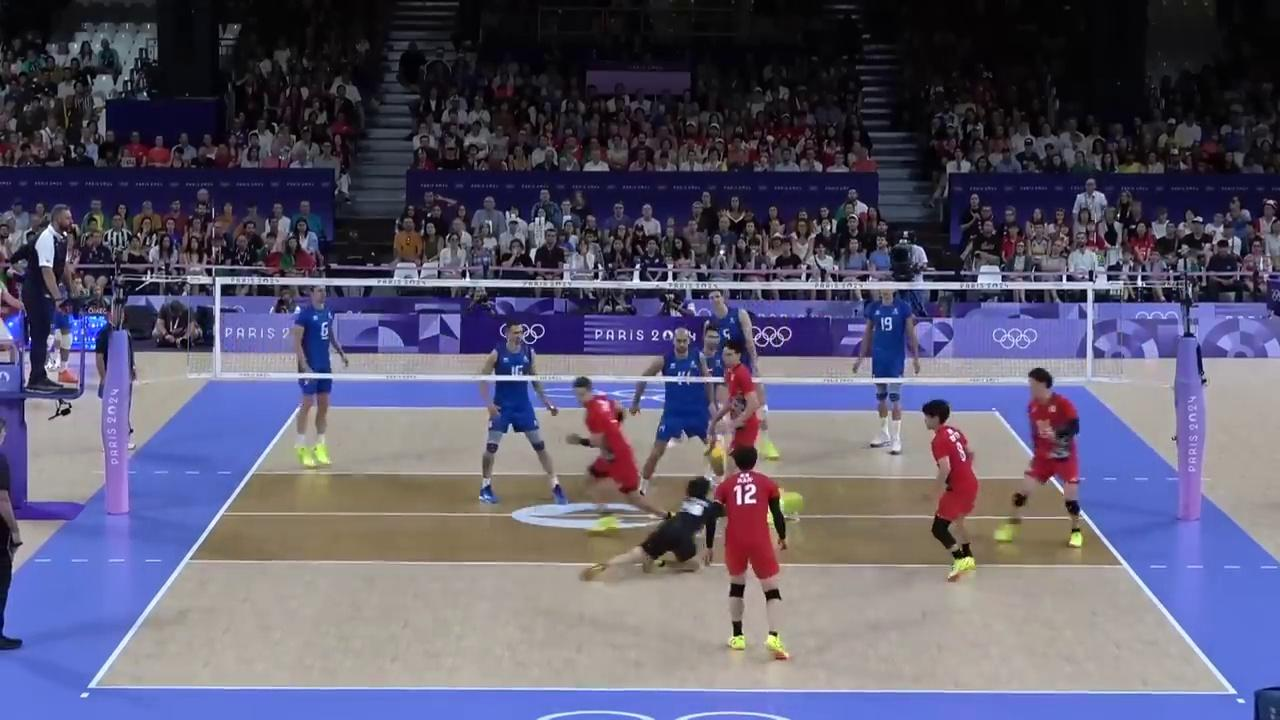ball: (705, 440, 726, 458)
